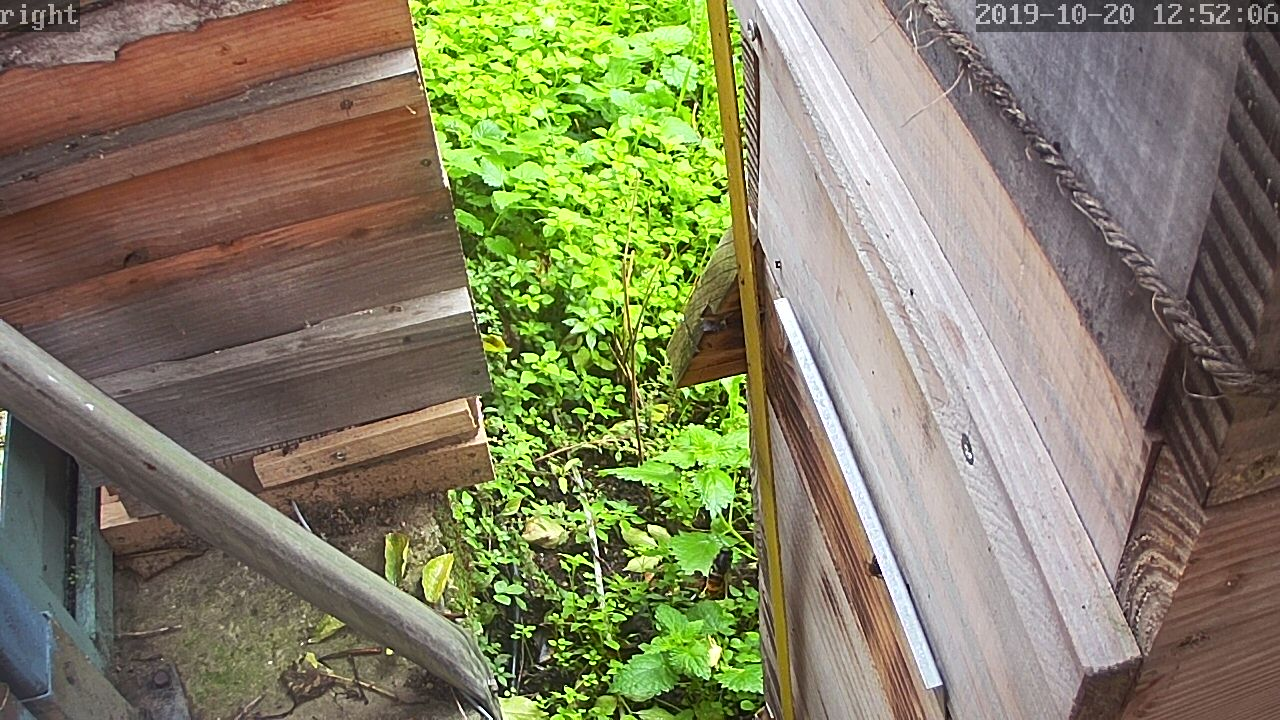bee: (858, 556, 886, 588)
hornet: (699, 540, 750, 605)
